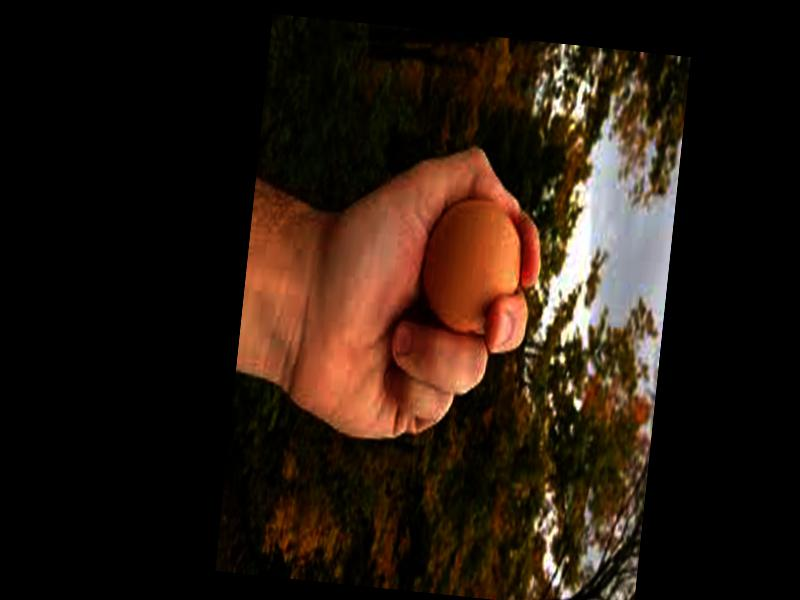Eggs: (417, 196, 526, 343)
